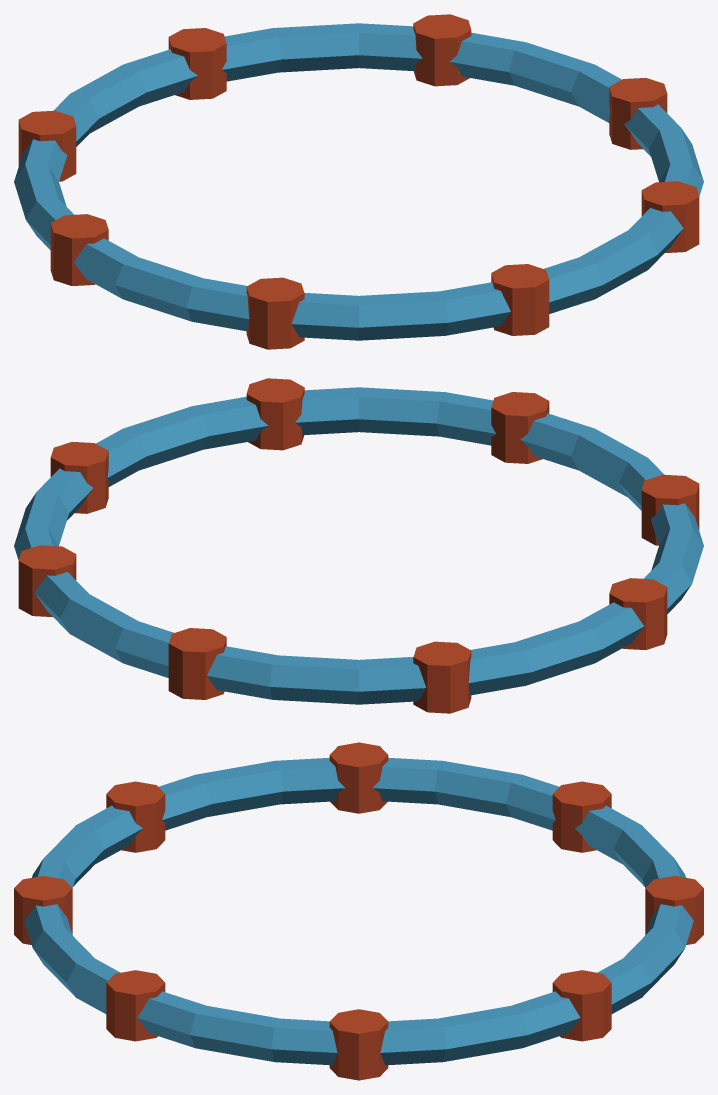
The model's file is Bastion_TechCenter_EnergyRingSpin.obj.
3 views of the same model, one above another, from view 1: azimuth 30°, elevation 25°; view 2: azimuth 150°, elevation 25°; view 3: azimuth 270°, elevation 25° (orthographic). The views are drawn at different scales.
Parts seen in each view (by area): view 1: Bastion_TechCenter_EnergyRingSpin; view 2: Bastion_TechCenter_EnergyRingSpin; view 3: Bastion_TechCenter_EnergyRingSpin.
Boxes of the visible parts, x1,y1,x2,y2 form: Bastion_TechCenter_EnergyRingSpin: (14,14,703,349); Bastion_TechCenter_EnergyRingSpin: (14,378,703,713); Bastion_TechCenter_EnergyRingSpin: (14,742,703,1080).
Size of the model in its own units: 3.76 by 0.28 by 3.76.
Materials: 1 (1 with a texture image).
